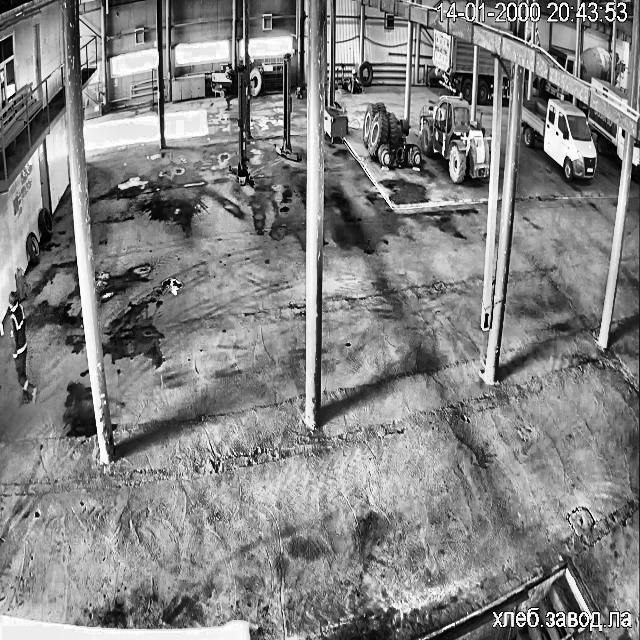car lift: (229, 67, 252, 186), (275, 52, 296, 161)
fire extinguisher: (16, 268, 24, 300)
mechanic: (8, 292, 36, 402)
tractor: (420, 94, 489, 182), (362, 102, 420, 166)
truck: (0, 150, 52, 321), (522, 100, 596, 180), (432, 28, 472, 100), (588, 108, 624, 158), (580, 46, 611, 82), (477, 49, 494, 102), (592, 78, 628, 102), (537, 78, 572, 100), (548, 45, 574, 73), (632, 140, 640, 178), (500, 78, 508, 97), (504, 60, 510, 76), (616, 57, 620, 75)
